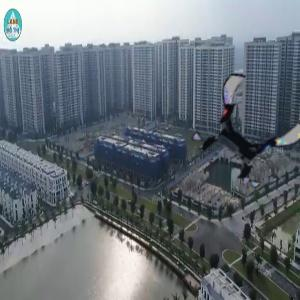drone: (197, 81, 297, 181)
